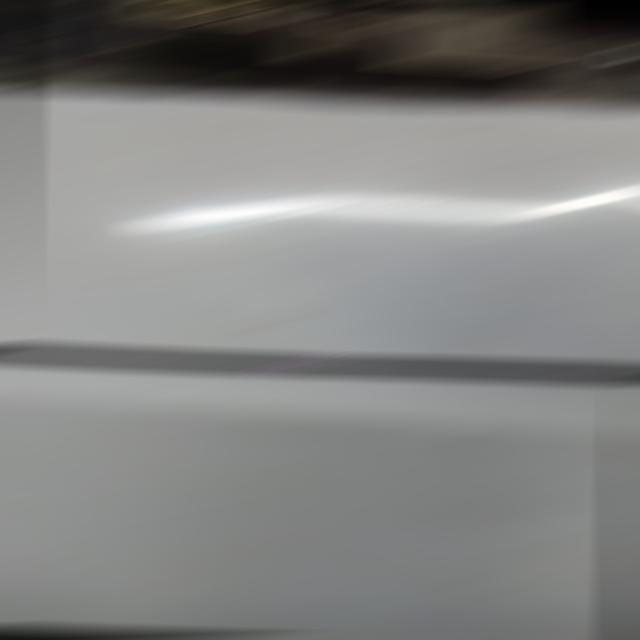pink: (266, 361, 325, 367)
